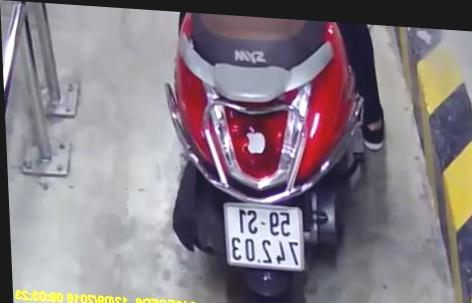License_Plate: (216, 197, 311, 278)
